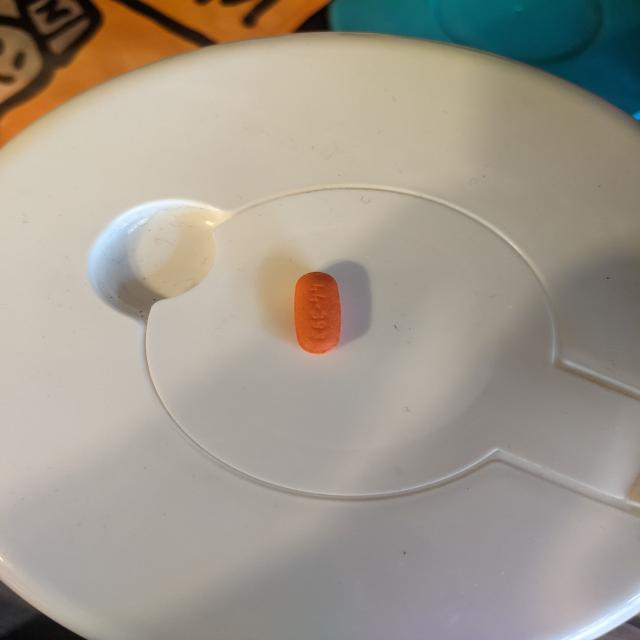non-organic waste: (293, 271, 343, 355)
